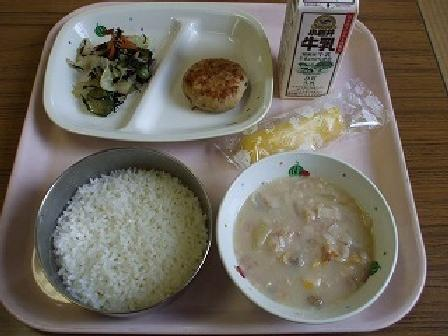Milk: (279, 0, 364, 103)
Rice: (48, 152, 223, 326)
Salad: (74, 27, 157, 116)
cutlet: (180, 45, 256, 121)
soup-plain: (232, 164, 388, 322)
